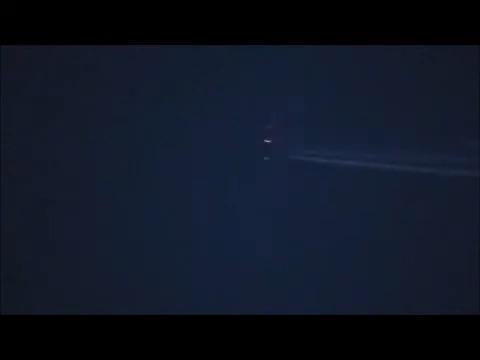Plane: (215, 126, 479, 193)
